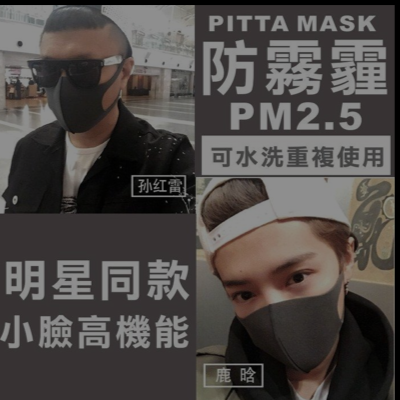with_mask: (218, 252, 344, 377), (39, 52, 108, 135)
